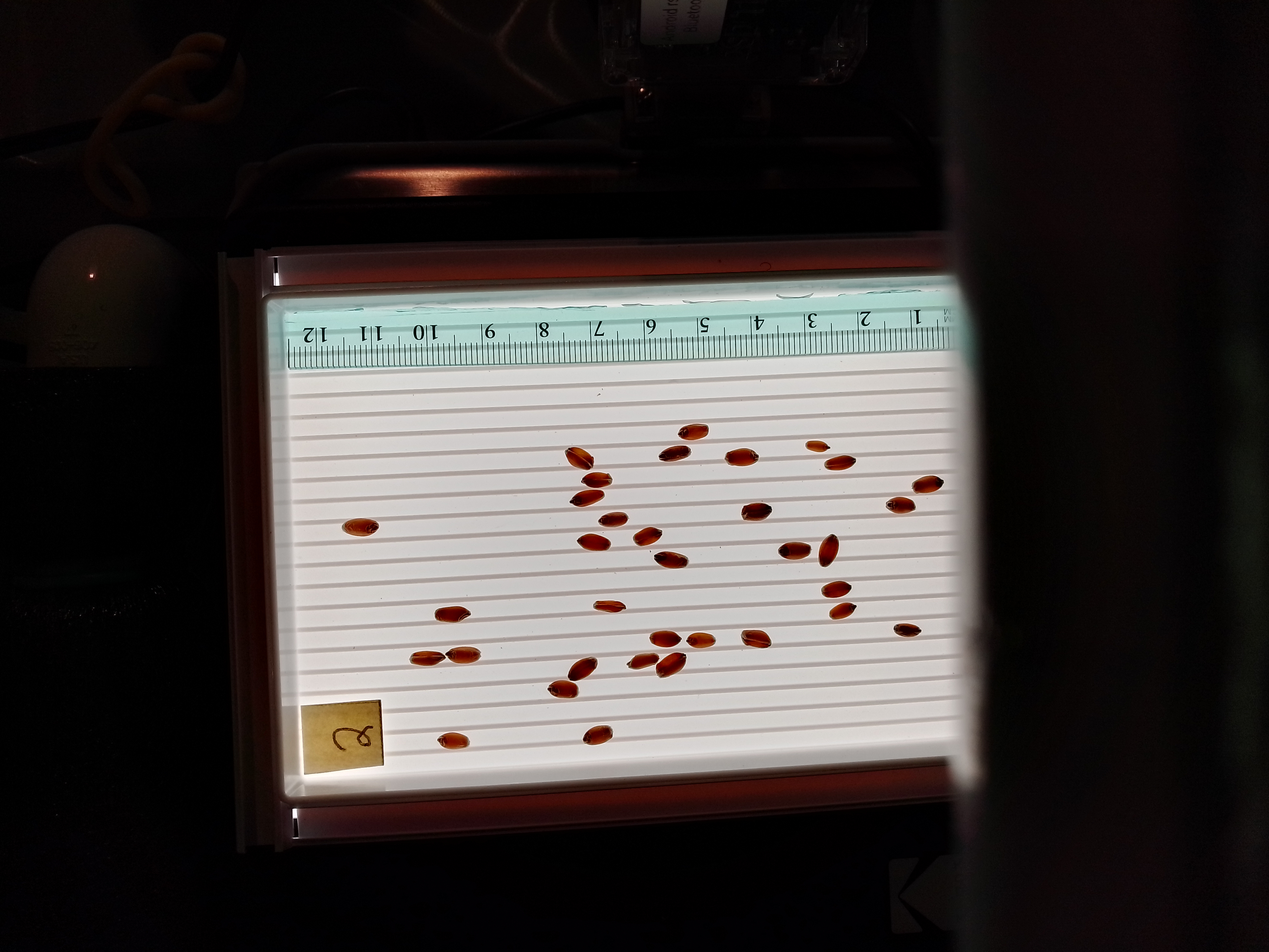seed mask: (657, 653, 685, 677), (343, 519, 378, 537), (569, 658, 596, 681), (819, 536, 839, 566), (438, 731, 469, 750), (584, 725, 613, 745), (436, 606, 470, 623), (726, 448, 758, 466), (779, 542, 811, 560), (566, 447, 593, 468), (578, 534, 611, 551), (655, 551, 688, 568), (447, 647, 479, 664), (571, 490, 604, 506), (743, 630, 772, 648), (743, 503, 772, 521), (822, 581, 851, 599), (913, 476, 943, 493), (660, 446, 691, 462), (549, 681, 578, 698), (635, 528, 662, 546), (650, 631, 680, 647), (679, 424, 709, 440), (825, 455, 855, 471), (628, 654, 658, 669), (600, 512, 628, 528), (411, 651, 443, 665), (830, 603, 856, 620), (583, 473, 612, 488), (887, 498, 914, 514), (894, 623, 921, 638), (688, 633, 714, 648), (595, 600, 624, 612), (806, 440, 829, 453)
